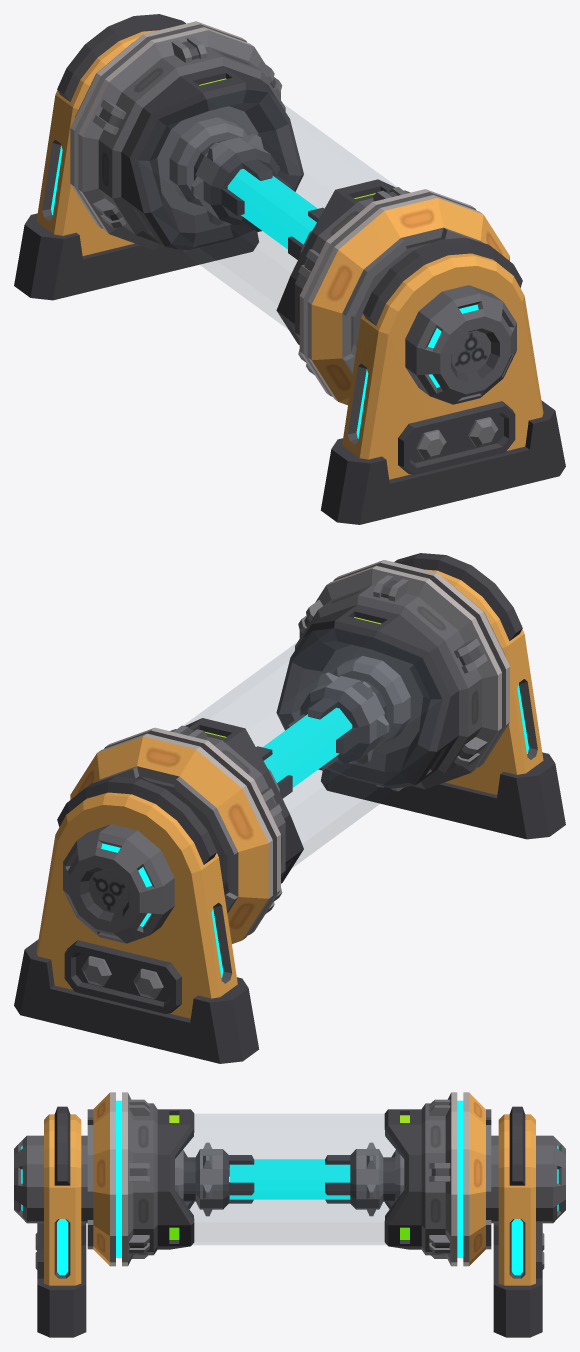
Rendered from entity67676.glb.
3 renders of one model, top to bottom at view 1: azimuth 30°, elevation 25°; view 2: azimuth 150°, elevation 25°; view 3: azimuth 270°, elevation 25°, orthographic. The views are drawn at different scales.
Parts seen in each view (by area): view 1: node_SM_Prop_PowerGenerator_02 (1), node_SM_Prop_PowerGenerator_02_Chamber_01, node_SM_Prop_PowerGenerator_02_Glass_01; view 2: node_SM_Prop_PowerGenerator_02 (1), node_SM_Prop_PowerGenerator_02_Chamber_01, node_SM_Prop_PowerGenerator_02_Glass_01; view 3: node_SM_Prop_PowerGenerator_02_Chamber_01, node_SM_Prop_PowerGenerator_02_Glass_01, node_SM_Prop_PowerGenerator_02 (1).
Boxes of the visible parts, x1,y1,x2,y2 form: node_SM_Prop_PowerGenerator_02 (1): [14, 14, 565, 524]; node_SM_Prop_PowerGenerator_02_Chamber_01: [70, 21, 509, 405]; node_SM_Prop_PowerGenerator_02_Glass_01: [138, 78, 395, 328]; node_SM_Prop_PowerGenerator_02 (1): [14, 553, 565, 1063]; node_SM_Prop_PowerGenerator_02_Chamber_01: [70, 560, 509, 943]; node_SM_Prop_PowerGenerator_02_Glass_01: [184, 617, 441, 866]; node_SM_Prop_PowerGenerator_02_Chamber_01: [87, 1092, 491, 1266]; node_SM_Prop_PowerGenerator_02_Glass_01: [170, 1114, 409, 1244]; node_SM_Prop_PowerGenerator_02 (1): [14, 1106, 565, 1337].
Size of the model in its own units: 2.61 by 2.84 by 7.32.
Materials: 2 (2 with a texture image).
